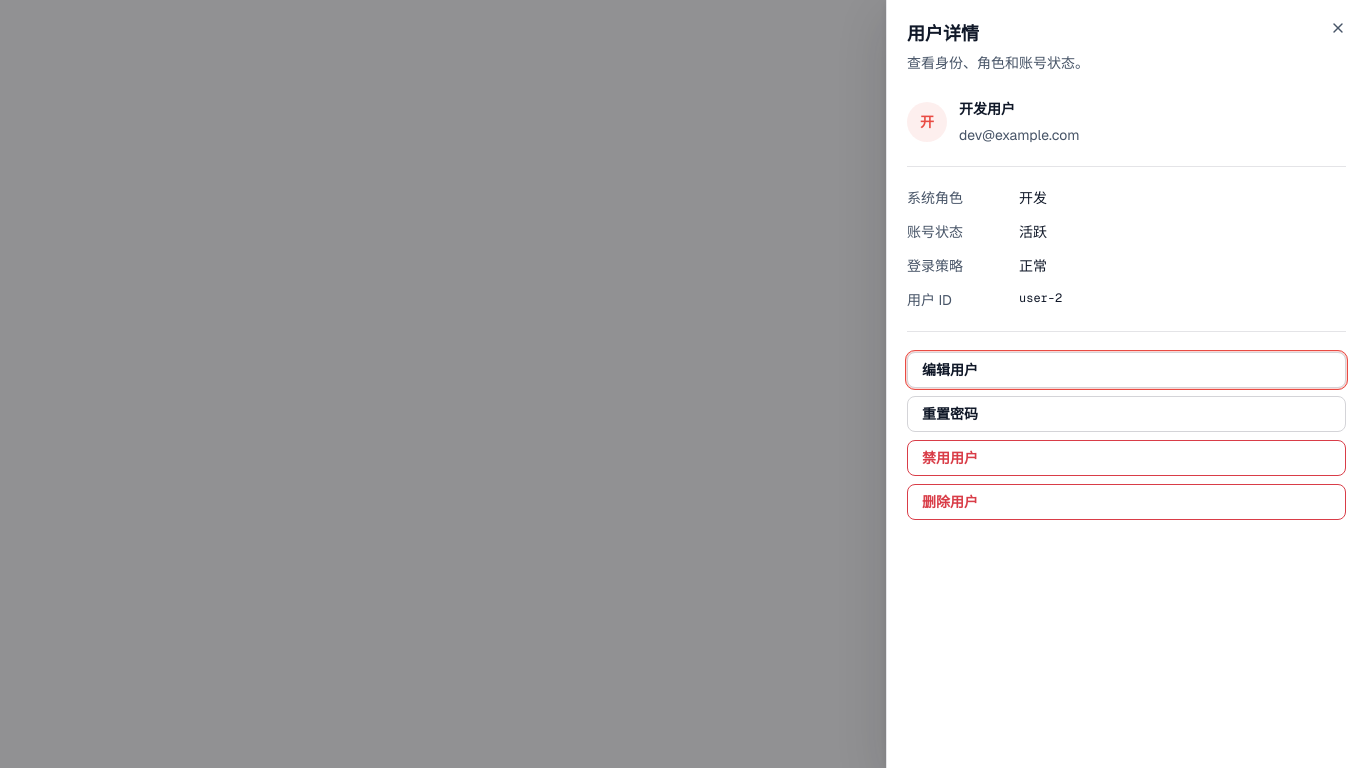
Test: UserDrawer actions › opens edit form with current user values
Click the button "编辑用户" at (950, 370), box x1=907 y1=352 x2=1346 y2=388
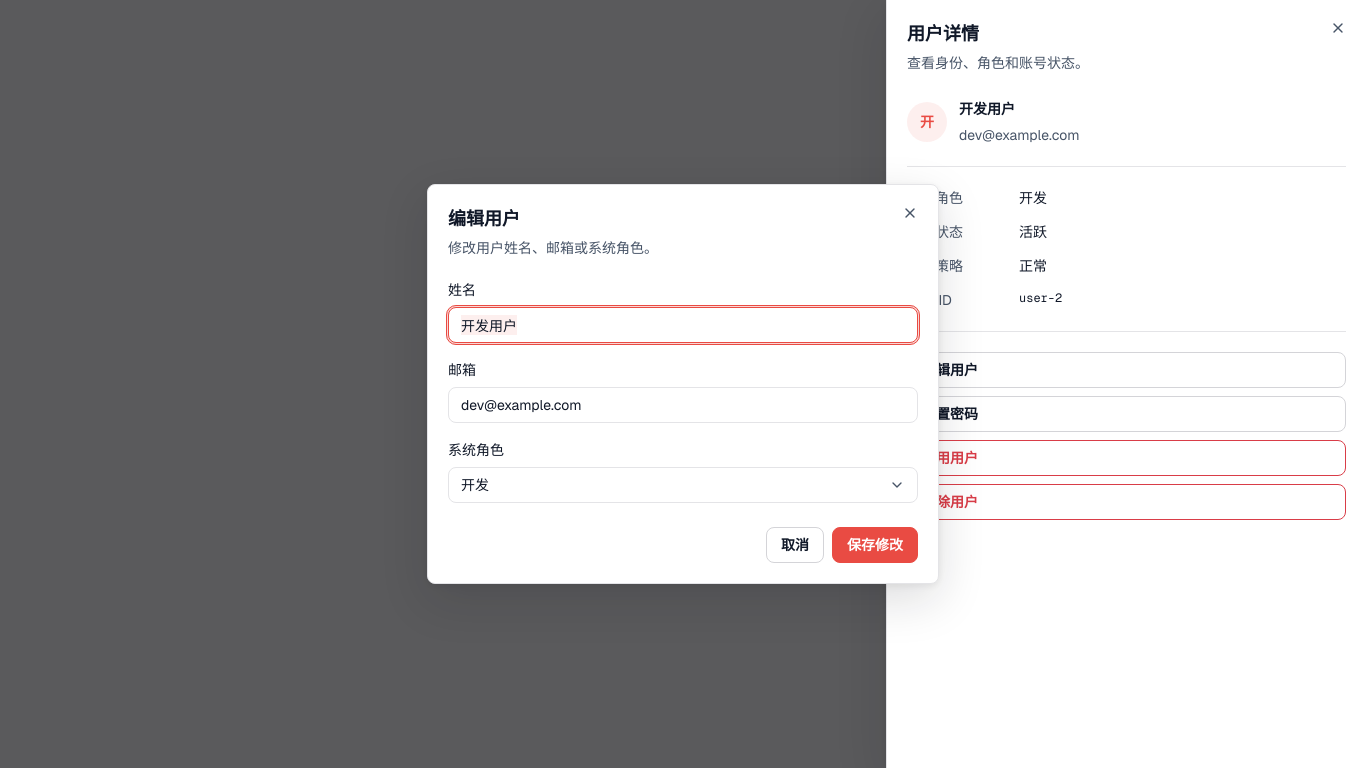
Check: the heading "编辑用户" is shown, box x1=448 y1=207 x2=520 y2=230
Check: the field labelled "姓名" holds "开发用户", box x1=448 y1=307 x2=918 y2=343
Check: the field labelled "邮箱" holds "dev@example.com", box x1=448 y1=387 x2=918 y2=423
